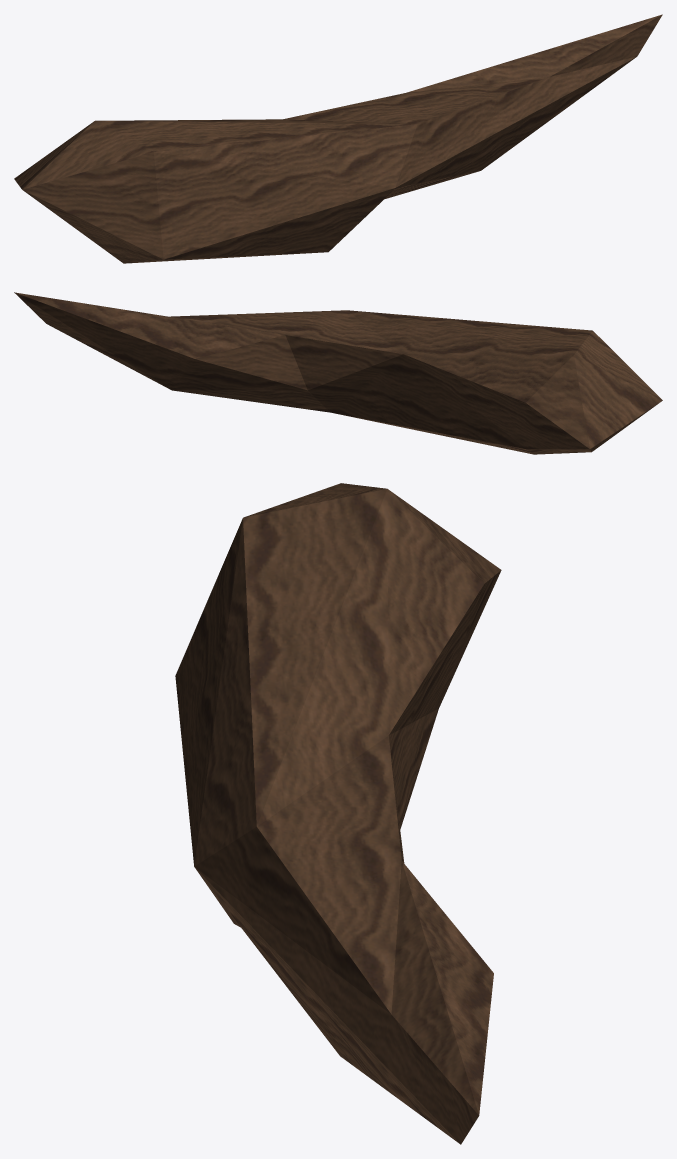
Rendered from Galho_Arvore.fbx.
The picture shows the model from 3 angles, top to bottom: view 1: azimuth 30°, elevation 25°; view 2: azimuth 150°, elevation 25°; view 3: azimuth 270°, elevation 25°; orthographic projection. The views are drawn at different scales.
Parts seen in each view (by area): view 1: GalhoArvore; view 2: GalhoArvore; view 3: GalhoArvore.
Part boxes in pixels (x1,y1,x2,y2): GalhoArvore: (14, 14, 662, 263); GalhoArvore: (14, 292, 662, 454); GalhoArvore: (175, 483, 501, 1144).
Size of the model in its own units: 93.93 by 19.44 by 21.59.
Materials: 1 (1 with a texture image).
